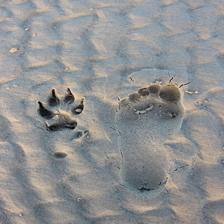dog: (34, 85, 89, 130)
